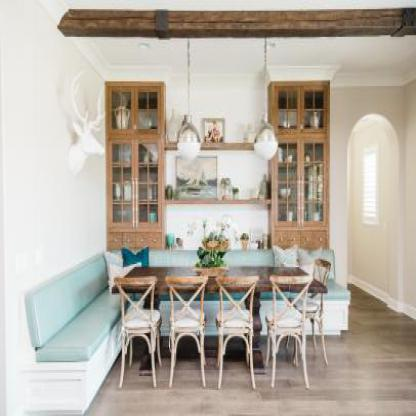chair: (114, 267, 161, 391), (262, 273, 310, 393), (162, 272, 209, 389), (215, 274, 258, 391), (299, 259, 334, 359)
